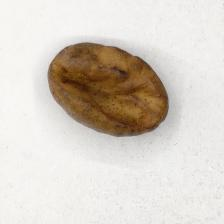NG: (67, 53, 150, 121)
